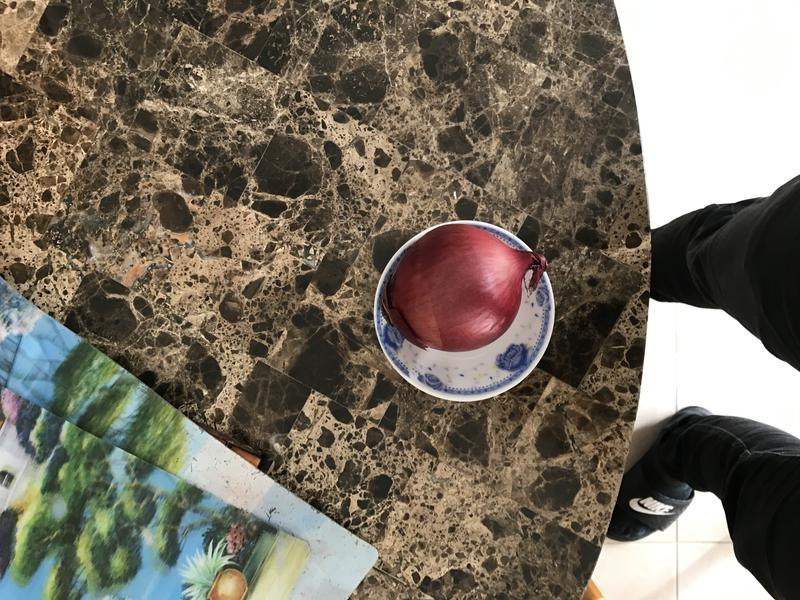purple_onion: (380, 216, 549, 357)
